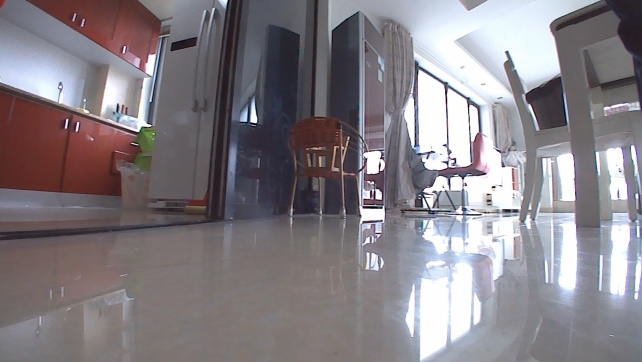chair_base: (447, 200, 483, 217)
cupboard: (0, 78, 144, 204)
refrigerator: (142, 0, 226, 213)
